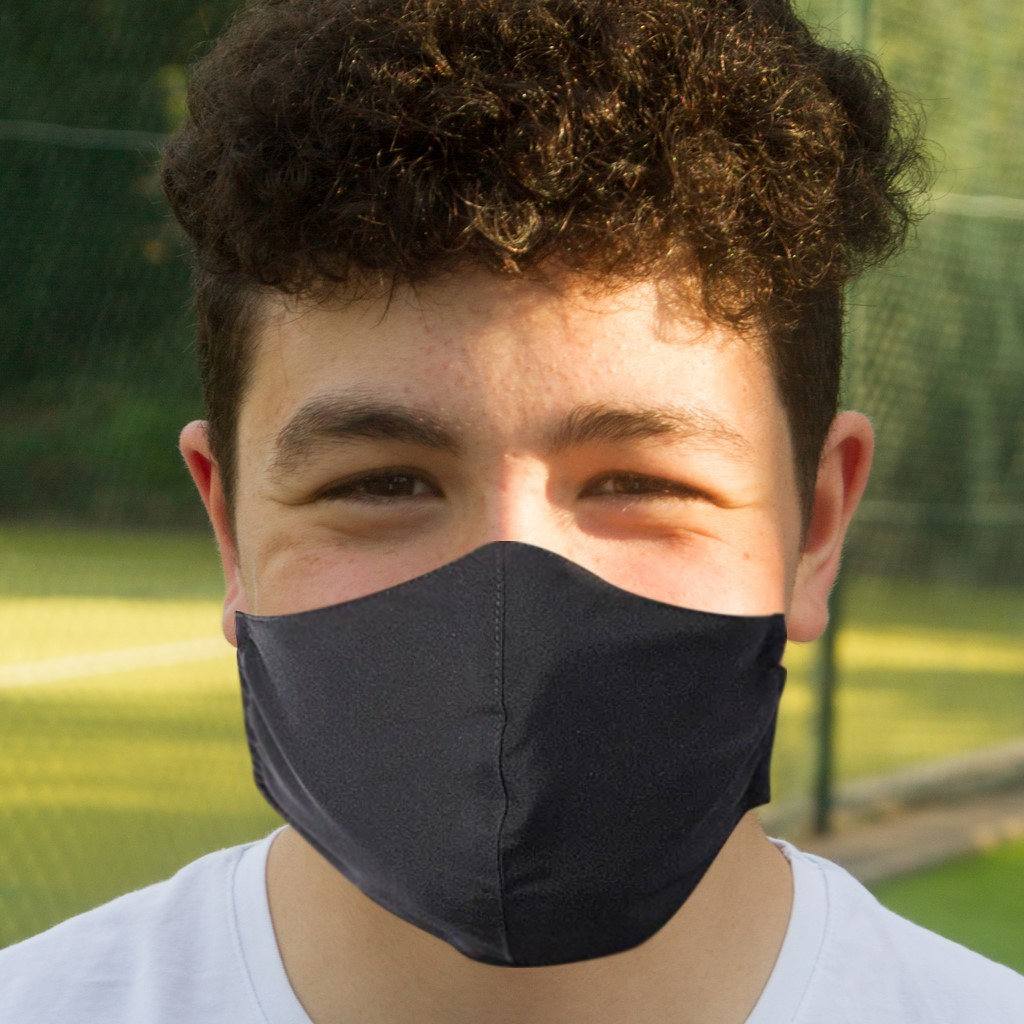con_mascara: (207, 157, 801, 945)
